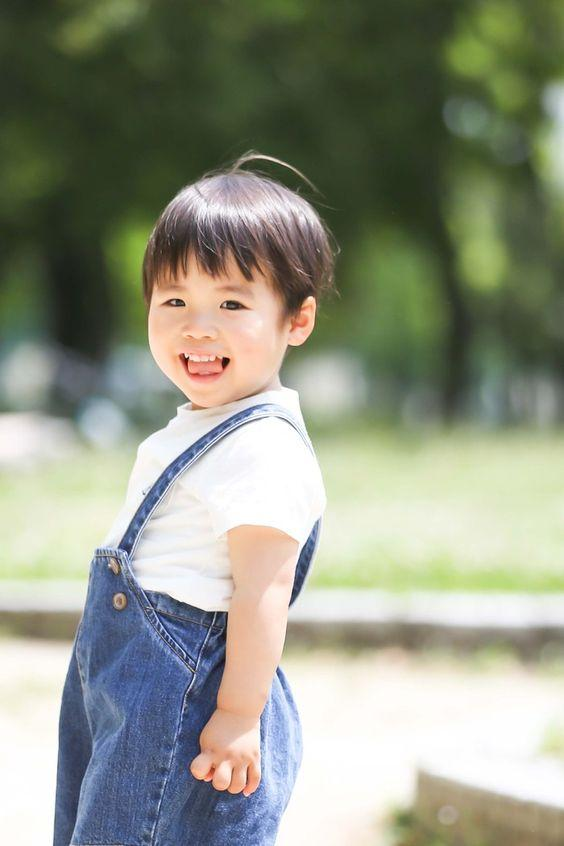Healthy: (111, 143, 361, 434)
